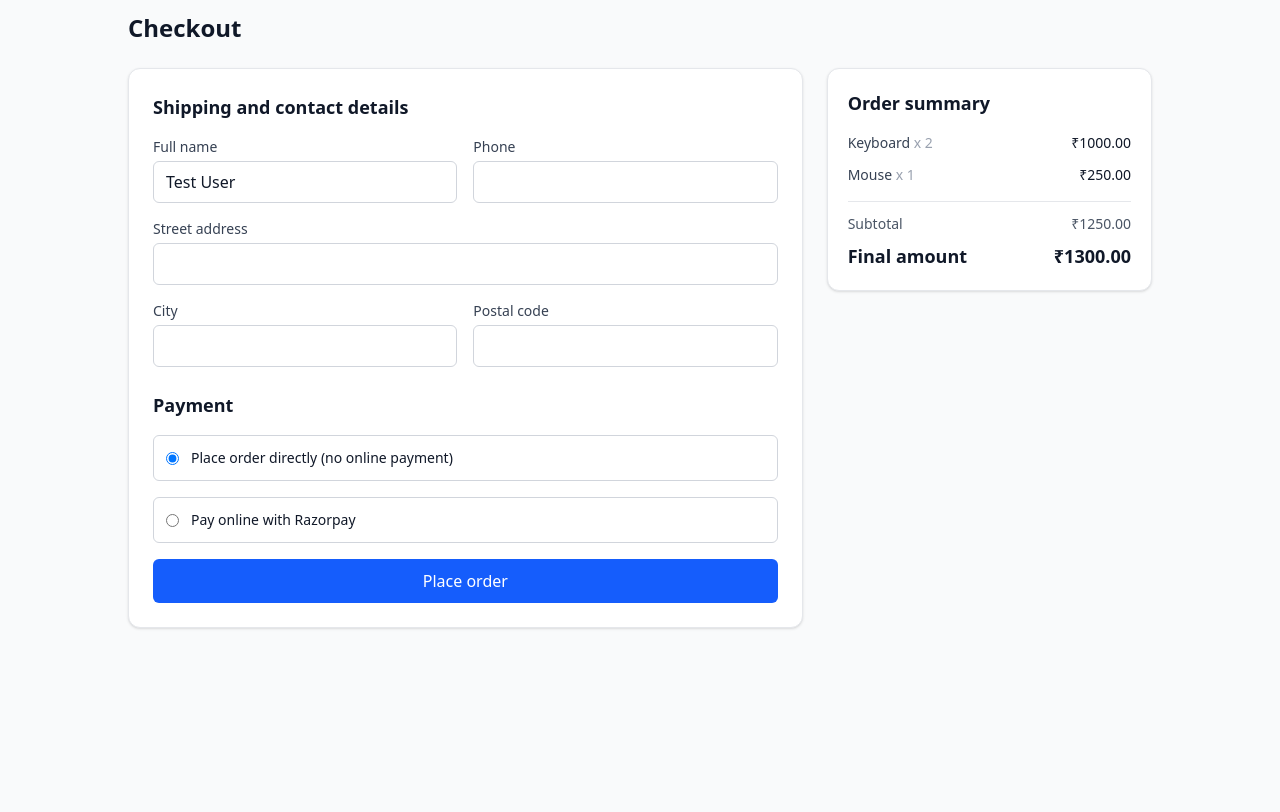
Test: CheckoutPage › validation › clears a field error as soon as the user edits that field
Click the button "Place order" at (465, 581), box [153,559,778,603]
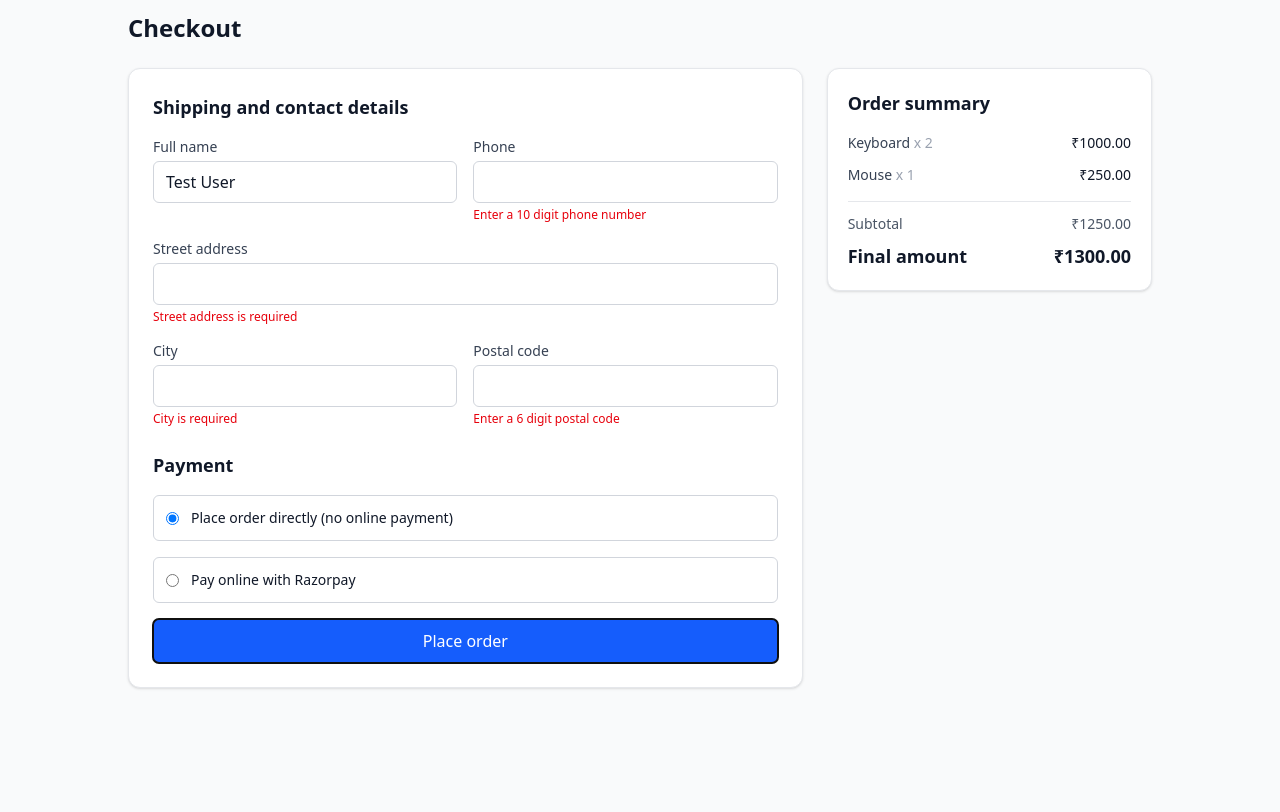
Check: the text "City is required" is shown, box [153,410,238,427]
Type "A" into the 4th field at (305, 386), box [153,365,457,407]
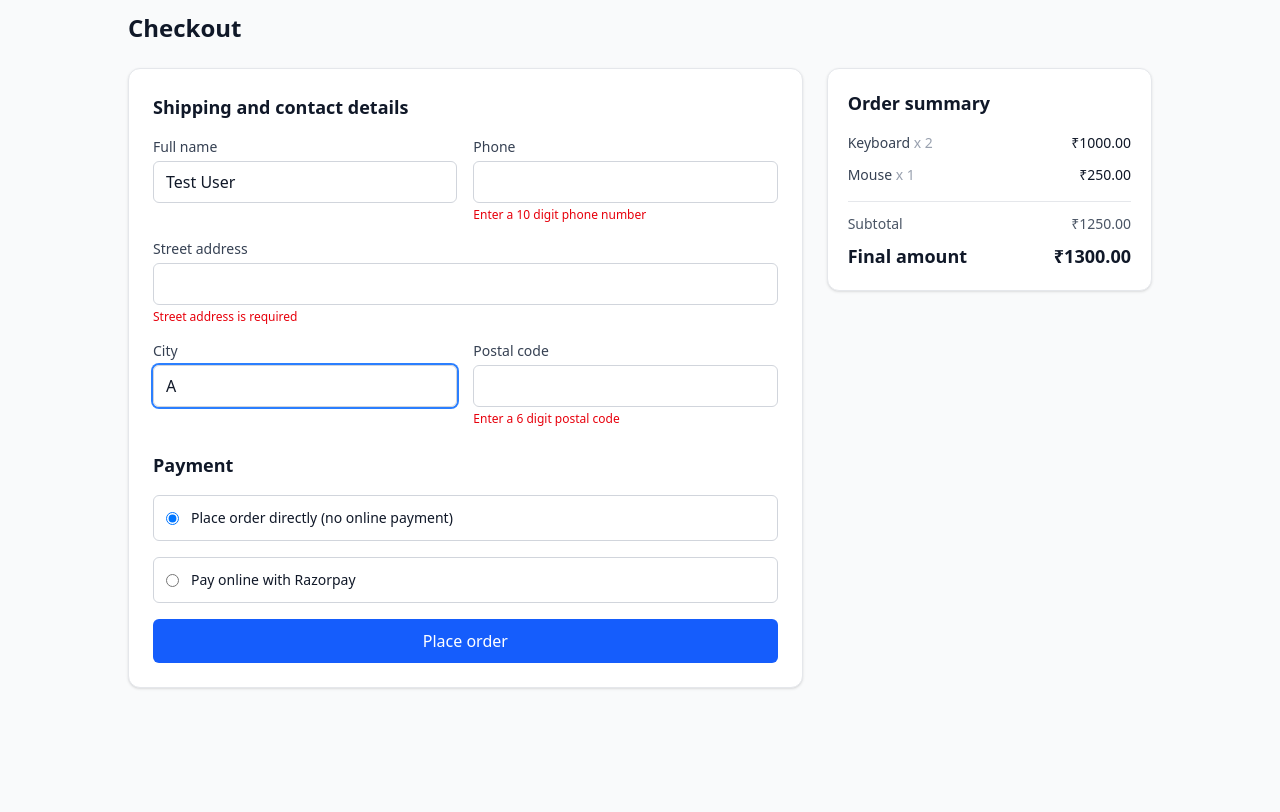
Check: the text "Street address is required" is shown, box [153,308,297,325]
Check: the text "City is required" is gone
